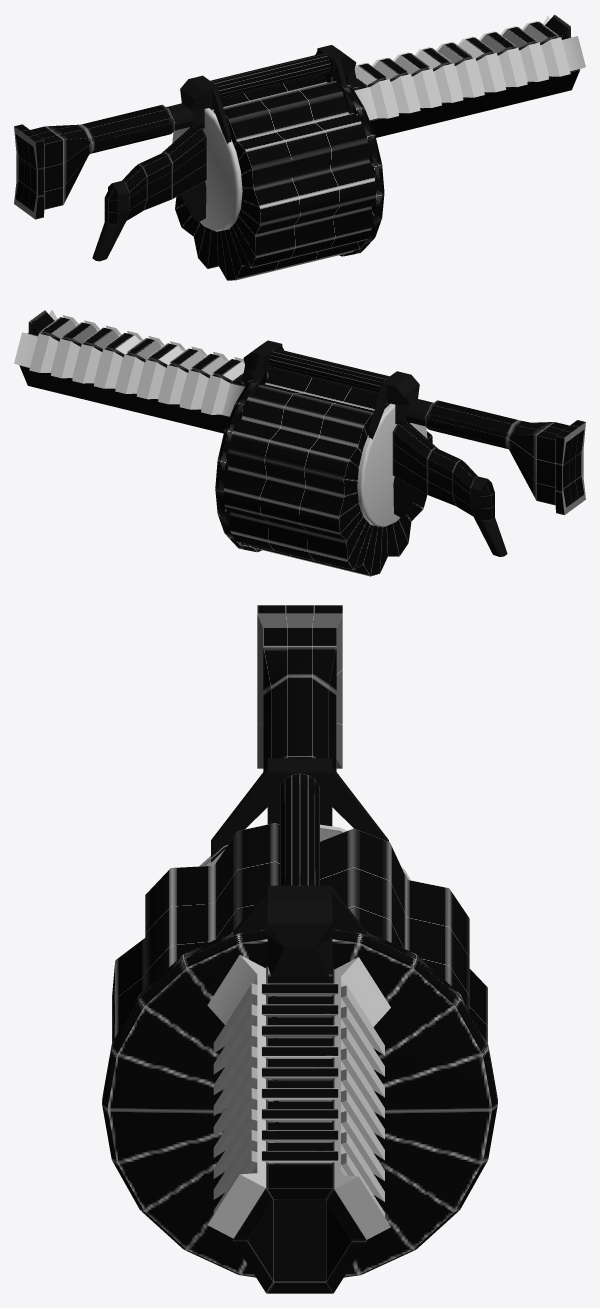
The model's file is StaticWeapon.fbx.
3 renders of one model, top to bottom at view 1: azimuth 30°, elevation 25°; view 2: azimuth 150°, elevation 25°; view 3: azimuth 270°, elevation 25°, orthographic. The views are drawn at different scales.
Parts seen in each view (by area): view 1: StaticGranadeLauncher; view 2: StaticGranadeLauncher; view 3: StaticGranadeLauncher.
Part boxes in pixels (box(x1,y1,x2,y2)): StaticGranadeLauncher: box(14, 14, 585, 280); StaticGranadeLauncher: box(14, 309, 585, 576); StaticGranadeLauncher: box(102, 605, 497, 1293).
Size of the model in its own units: 2.86 by 0.9965 by 0.9091.
